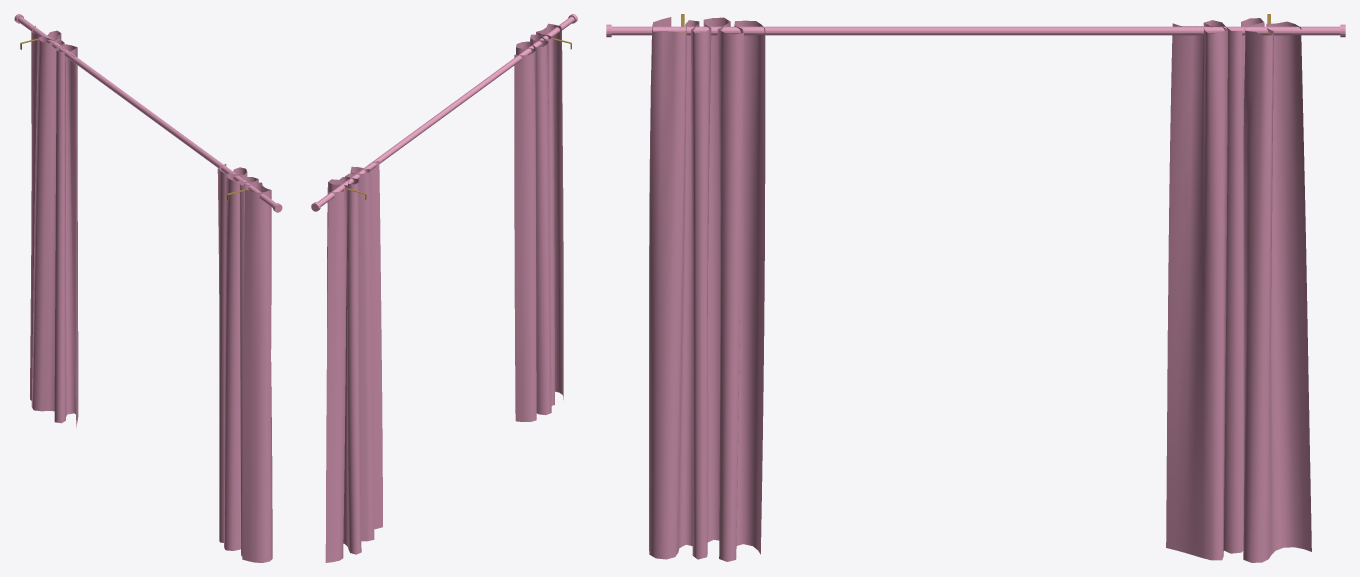
Rendered from Tirai.fbx.
3 views of the same model, side by side, from view 1: azimuth 30°, elevation 25°; view 2: azimuth 150°, elevation 25°; view 3: azimuth 270°, elevation 25° (orthographic). The views are drawn at different scales.
Parts seen in each view (by area): view 1: Cylinder; view 2: Cylinder; view 3: Cylinder.
Boxes of the visible parts, left/top/right/bottom form: Cylinder: left=14, top=14, right=282, bottom=562; Cylinder: left=311, top=14, right=577, bottom=562; Cylinder: left=606, top=14, right=1345, bottom=562.
Size of the model in its own units: 18.62 by 160 by 203.
